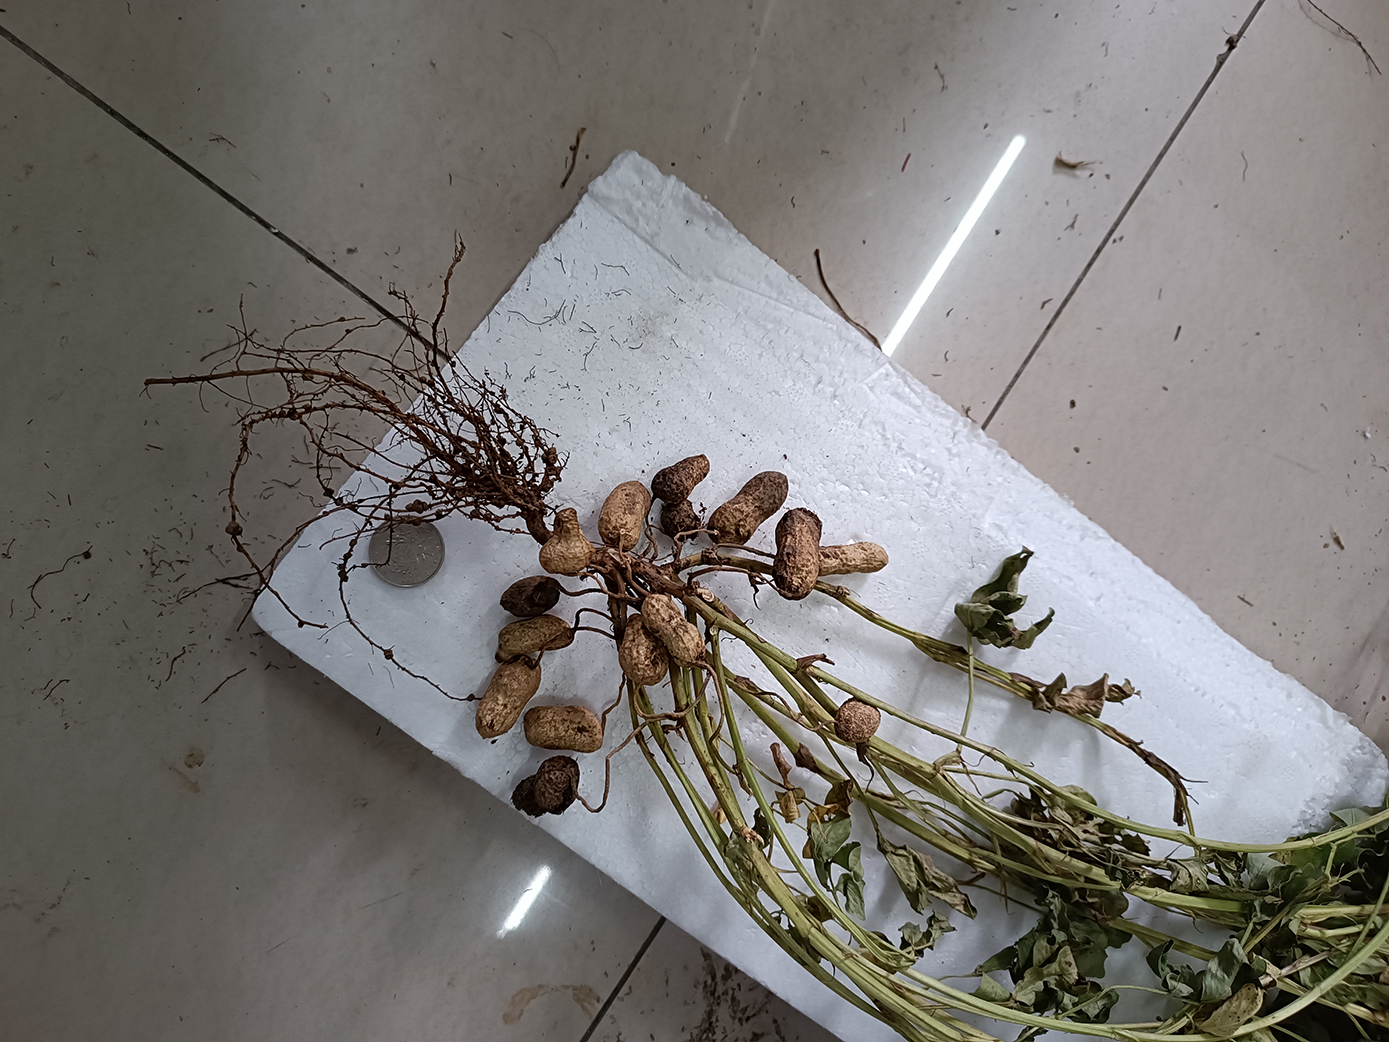h: (477, 656, 544, 740), (640, 592, 703, 667), (597, 481, 651, 554), (524, 705, 603, 754), (495, 615, 572, 664), (540, 509, 595, 574), (620, 612, 668, 685), (817, 542, 890, 574), (833, 697, 881, 744)
l: (708, 471, 789, 546), (511, 756, 581, 819), (776, 509, 818, 597), (652, 454, 709, 503), (502, 576, 562, 617), (662, 499, 701, 539)
